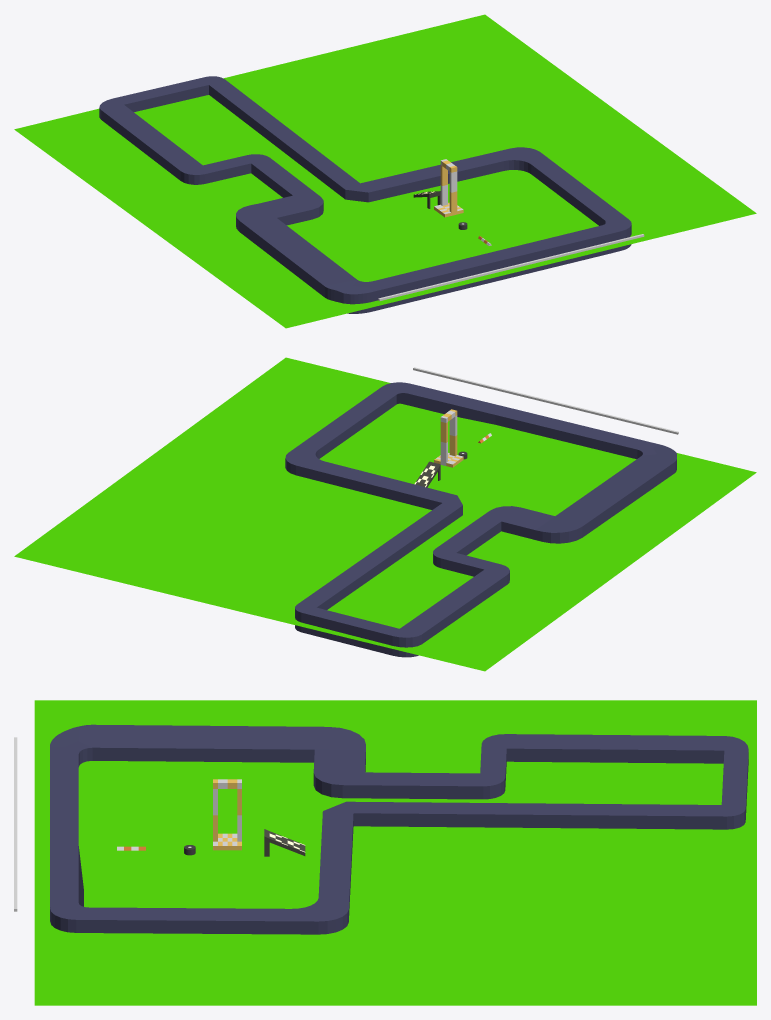
Rendered from Race_Items.fbx.
3 renders of one model, top to bottom at view 1: azimuth 30°, elevation 25°; view 2: azimuth 150°, elevation 25°; view 3: azimuth 270°, elevation 25°, orthographic. The views are drawn at different scales.
Visible parts, largest first — view 1: Grass, RaceTrack, Checkpoint, boundary; view 2: Grass, RaceTrack, Checkpoint, boundary; view 3: Grass, RaceTrack, Checkpoint, boundary, Ramp.
Part boxes in pixels (x1,y1,x2,y2): Grass: (14,14,756,328); RaceTrack: (99,76,631,313); Checkpoint: (434,159,463,217); boundary: (378,234,644,301); Grass: (14,357,756,671); RaceTrack: (285,382,676,657); Checkpoint: (434,409,463,467); boundary: (413,367,678,434); Grass: (34,700,756,1005); RaceTrack: (50,724,748,934); Checkpoint: (213,779,241,850); boundary: (14,737,17,911); Ramp: (264,829,305,856).
Bounding box in the file's own units: 5000 × 649 × 5143.
